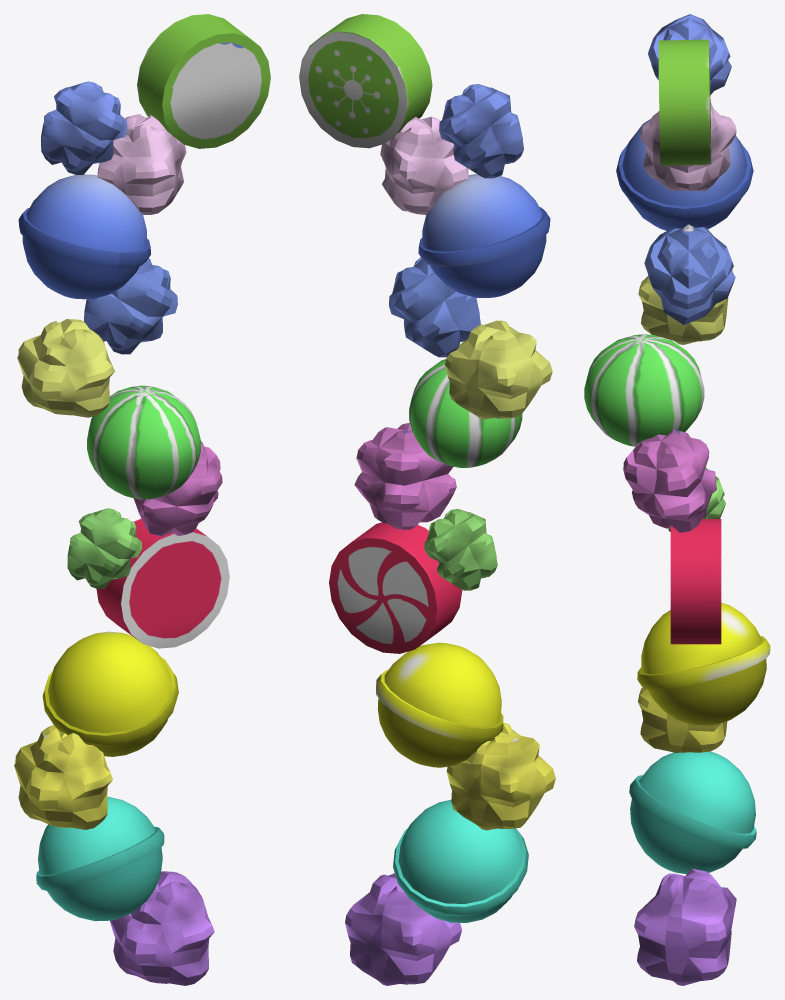
The model's file is Obj_piller_06.fbx.
3 views of the same model, side by side, from view 1: azimuth 30°, elevation 25°; view 2: azimuth 150°, elevation 25°; view 3: azimuth 270°, elevation 25° (orthographic).
Visible parts, largest first — view 1: pSphere16; view 2: pSphere16; view 3: pSphere16.
Part boxes in pixels (x1,y1,x2,y2): pSphere16: (14, 14, 270, 985); pSphere16: (299, 14, 555, 985); pSphere16: (584, 14, 770, 985).
Size of the model in its own units: 107 by 416 by 73.78.
